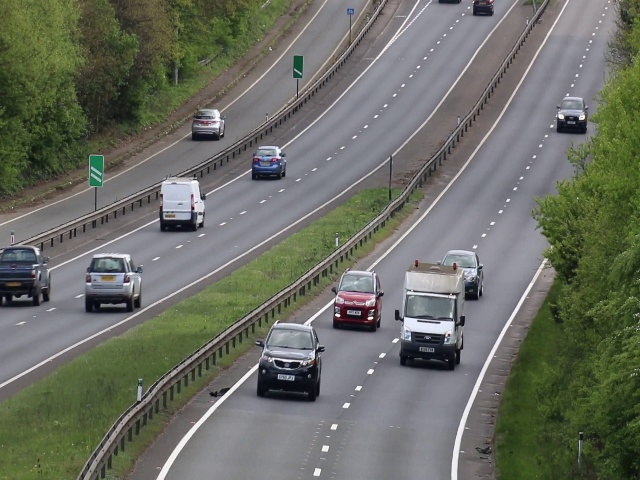car: (395, 286, 467, 370), (253, 321, 323, 399), (332, 266, 384, 332), (84, 253, 142, 311), (1, 245, 53, 307), (158, 177, 206, 232), (250, 144, 287, 181), (190, 106, 227, 140), (556, 95, 588, 133), (446, 248, 484, 276)
